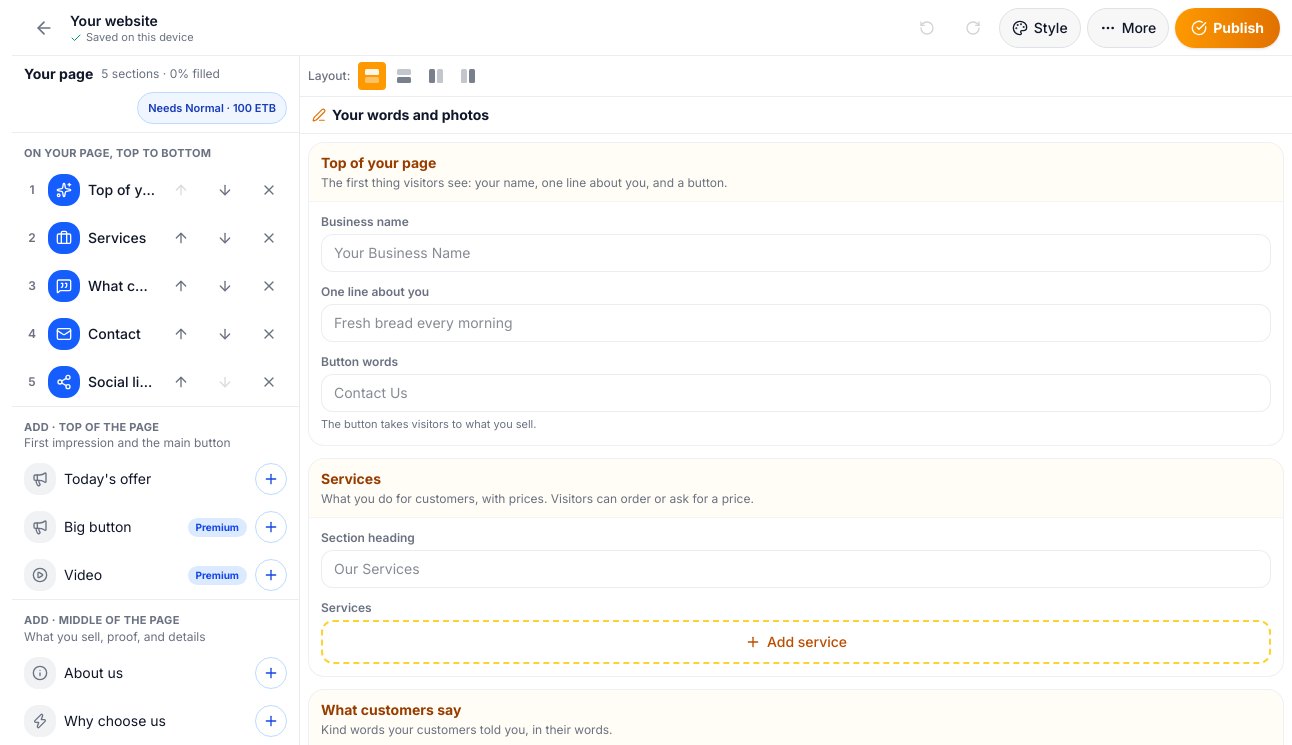
Test case: Studio layouts › undo goes back one change, not one letter
This screenshot has width=1292, height=745.
Type "C" into the field labelled "Business name". click: (796, 253)
box: [321,234,1271,272]
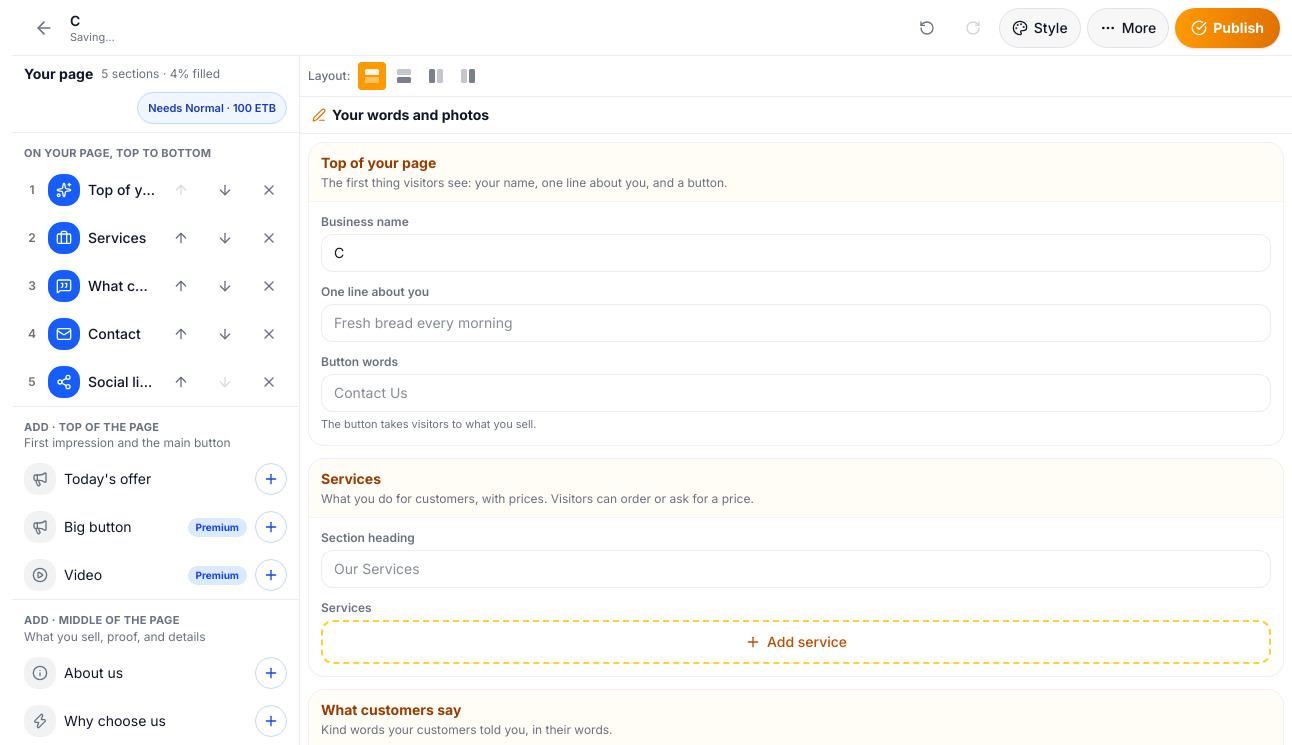
Replace the text in the field labelled "Business name" with "Ca". click: (796, 253)
box: [321,234,1271,272]
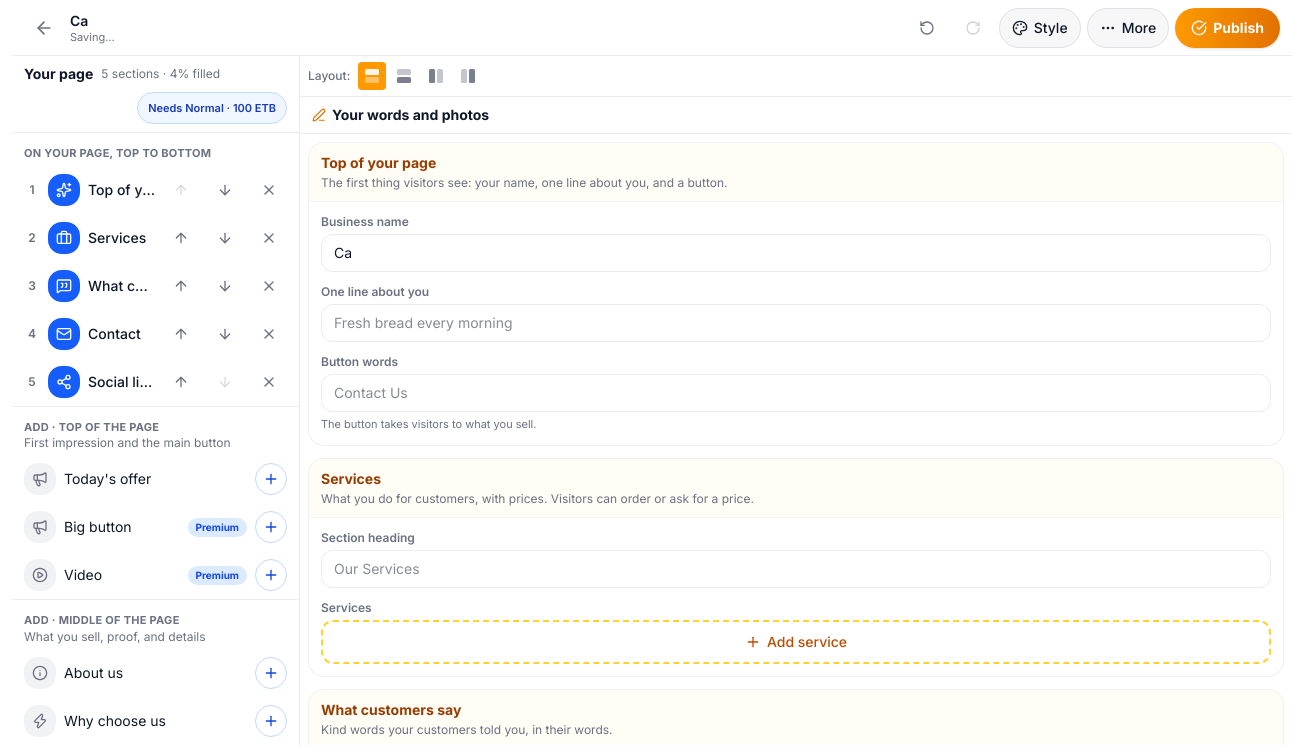
Replace the text in the field labelled "Business name" with "Caf". click: (796, 253)
box: [321,234,1271,272]
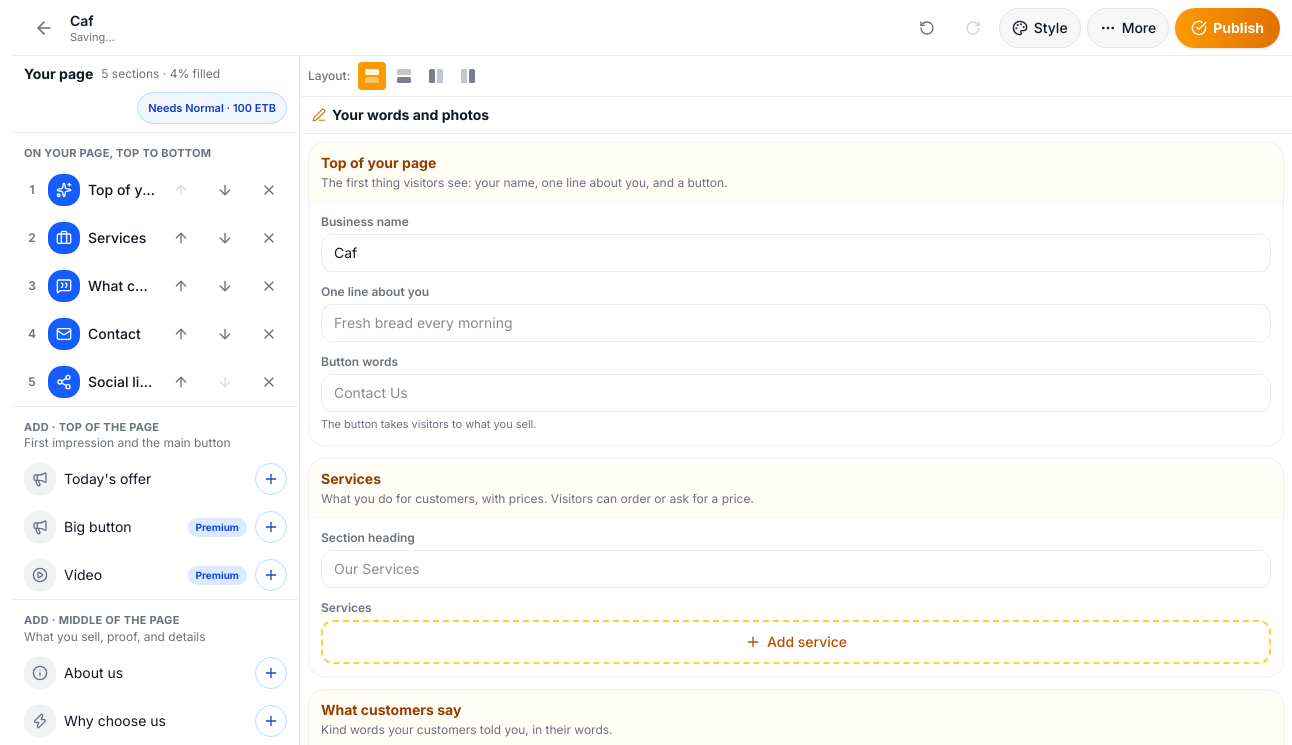
Replace the text in the field labelled "Business name" with "Cafe". click: (796, 253)
box: [321,234,1271,272]
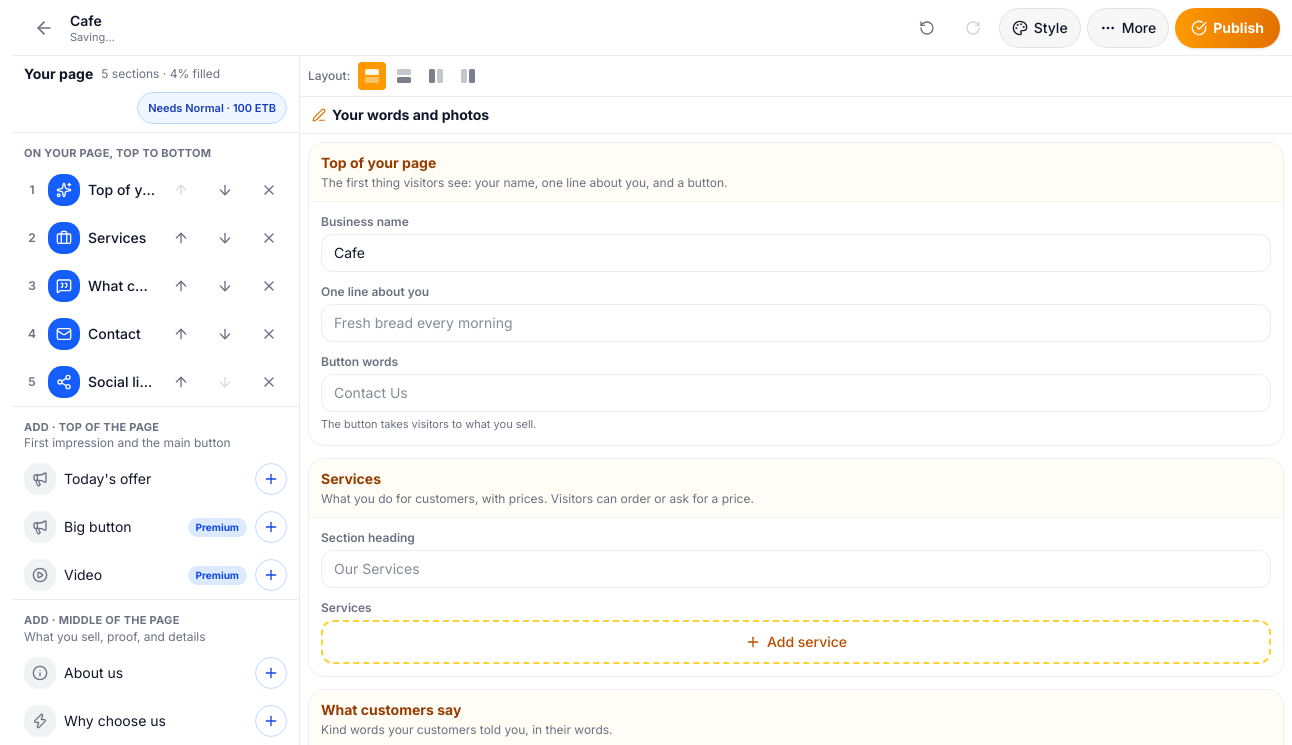
Check: the text "Cafe" is shown, box [70,12,102,29]
Click the button named "Undo". click: (927, 28)
box: [907,8,947,48]
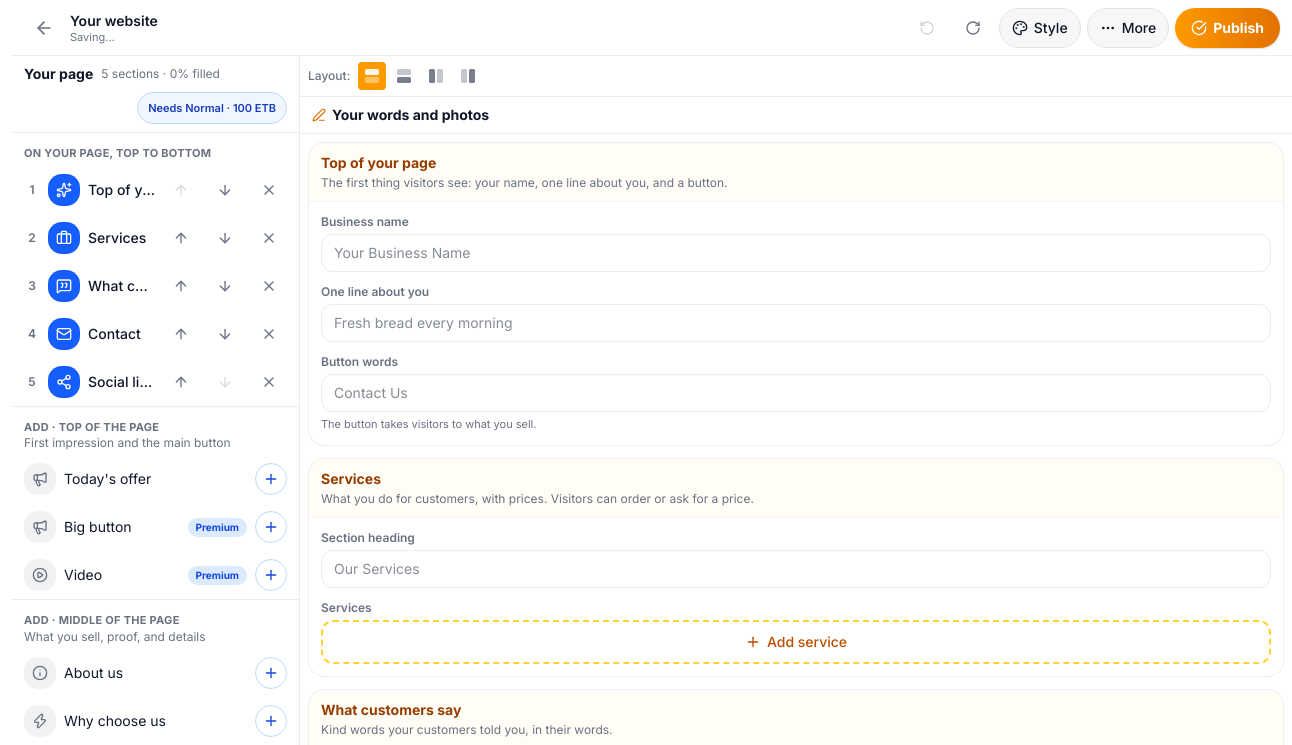
Check: the text "Cafe" is not shown
Check: the button named "Undo" is disabled, box [907,8,947,48]
